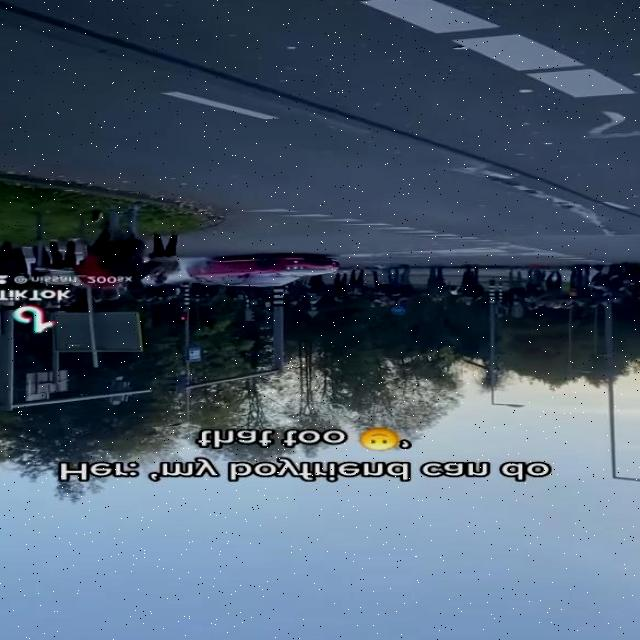car: (190, 252, 344, 288)
